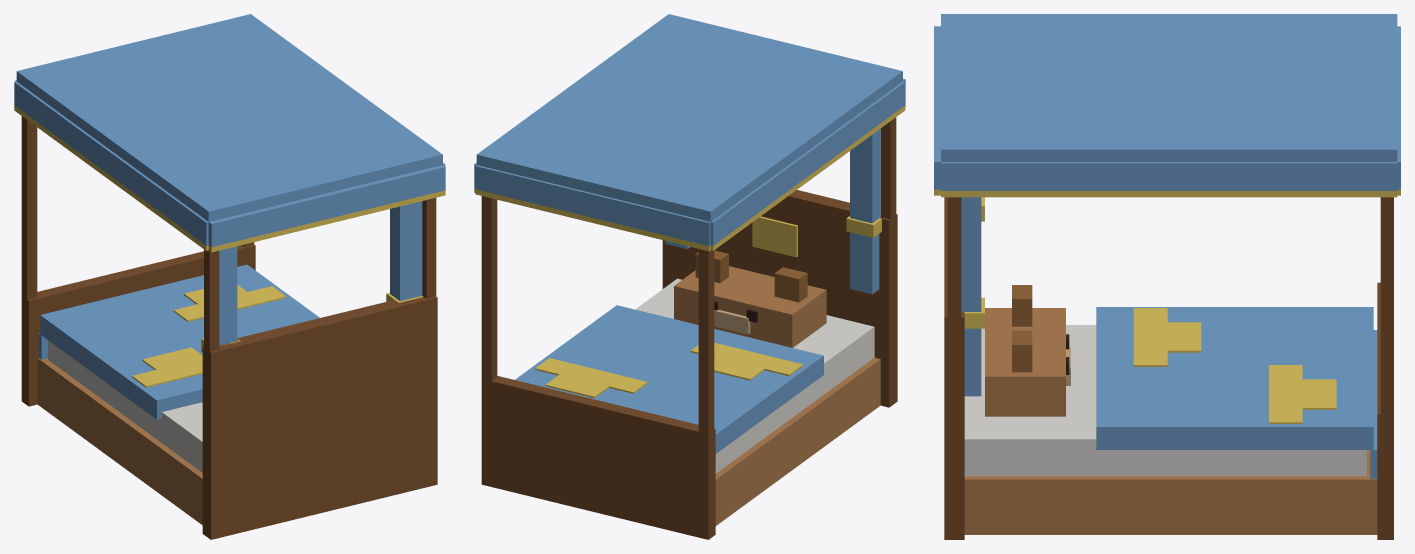
Rendered from ncb-bed-blue.glb.
The picture shows the model from 3 angles, left to right: view 1: azimuth 30°, elevation 25°; view 2: azimuth 150°, elevation 25°; view 3: azimuth 270°, elevation 25°; orthographic projection. The views are drawn at different scales.
Parts seen in each view (by area): view 1: box-prop; view 2: box-prop; view 3: box-prop.
Part boxes in pixels (left/top/right/bottom): box-prop: left=14, top=14, right=445, bottom=539; box-prop: left=474, top=14, right=905, bottom=539; box-prop: left=934, top=14, right=1400, bottom=539.
Size of the model in its own units: 1.94 by 2.56 by 2.76.
